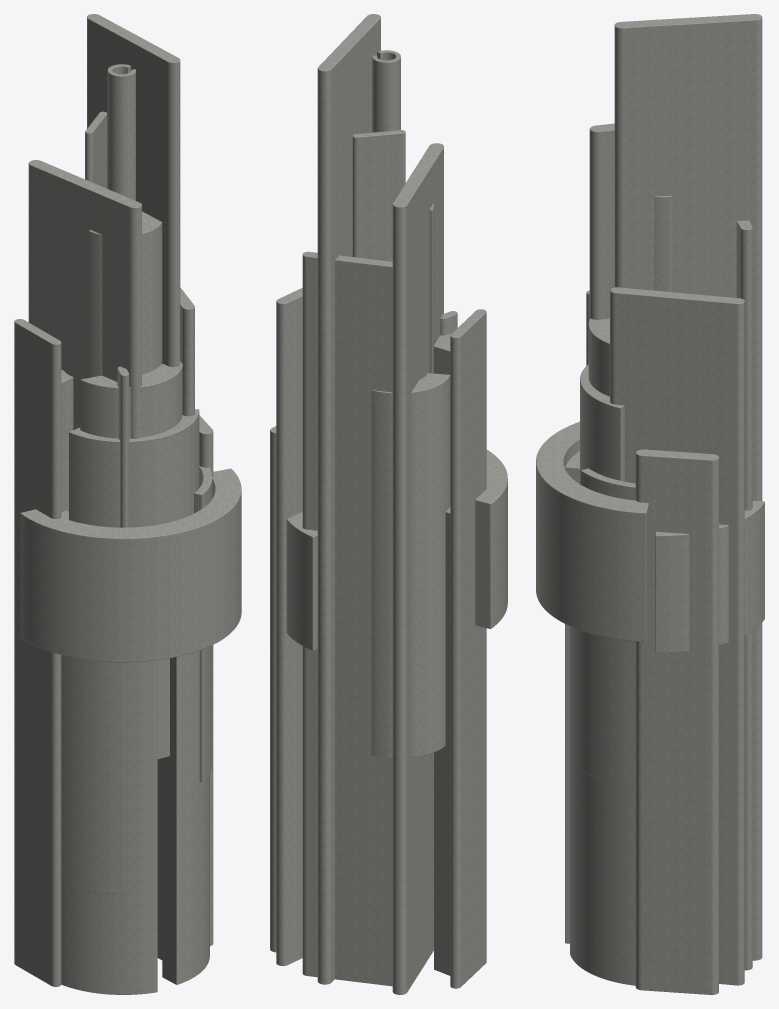
File: SM_OutpostMonument_v01.fbx
3 renders of one model, left to right at view 1: azimuth 30°, elevation 25°; view 2: azimuth 150°, elevation 25°; view 3: azimuth 270°, elevation 25°, orthographic. The views are drawn at different scales.
Visible parts, largest first — view 1: SM_OutpostMonument_v01; view 2: SM_OutpostMonument_v01; view 3: SM_OutpostMonument_v01.
Boxes of the visible parts, x1=… form: SM_OutpostMonument_v01: x1=14, y1=14, x2=241, y2=994; SM_OutpostMonument_v01: x1=270, y1=14, x2=507, y2=994; SM_OutpostMonument_v01: x1=536, y1=14, x2=764, y2=994.
Bounding box in the file's own units: 71.03 × 66.2 × 300.
Materials: 1 (1 with a texture image).
